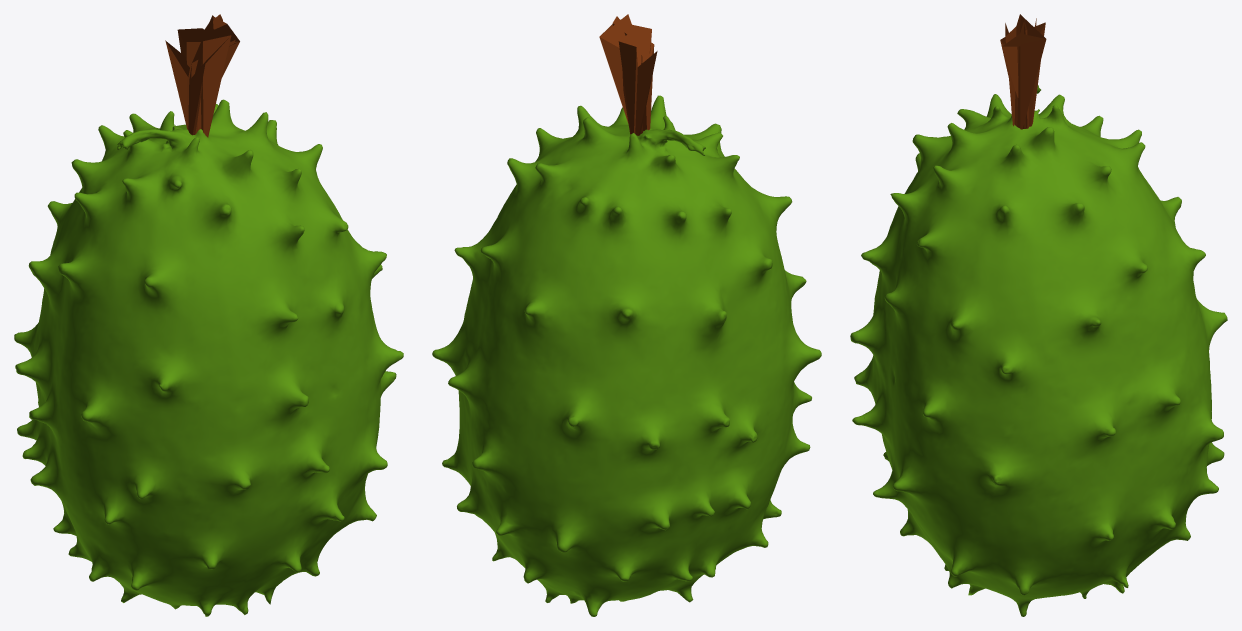
Rendered from Fruit_Rawst.fbx.
3 views of the same model, side by side, from view 1: azimuth 30°, elevation 25°; view 2: azimuth 150°, elevation 25°; view 3: azimuth 270°, elevation 25° (orthographic). The views are drawn at different scales.
Visible parts, largest first — view 1: kiwano_rigsters, Cylinder; view 2: kiwano_rigsters, Cylinder; view 3: kiwano_rigsters, Cylinder.
Part boxes in pixels (left/top/right/bottom): kiwano_rigsters: left=14, top=99, right=403, bottom=616; Cylinder: left=165, top=14, right=239, bottom=137; kiwano_rigsters: left=432, top=95, right=821, bottom=616; Cylinder: left=599, top=14, right=657, bottom=135; kiwano_rigsters: left=850, top=85, right=1227, bottom=616; Cylinder: left=1000, top=14, right=1046, bottom=129.
Bounding box in the file's own units: 299 × 499 × 297.
